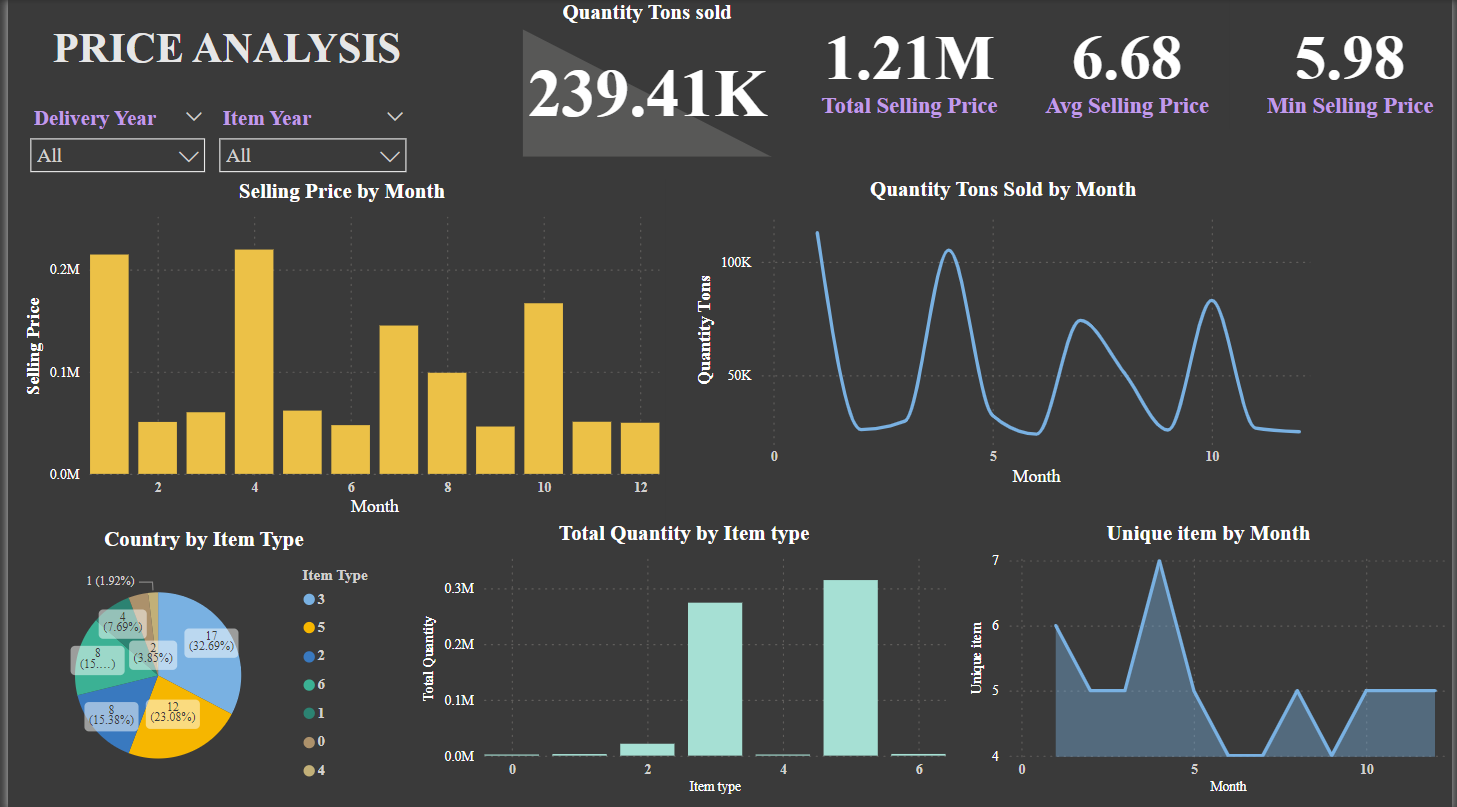

What the dashboard file says about the page in this screenshot:
{"tool":"powerbi","page":{"name":"Dashbord","canvas":[1280,720],"ordinal":0},"visuals":[{"type":"card","fields":{"Values":["Industrial_Copper_Colab.Total Selling Price"]},"box":[689.6,0,218.8,113.8],"z":0},{"type":"card","fields":{"Values":["Industrial_Copper_Colab.Avg Selling Price"]},"box":[901.6,0,180.9,113.8],"z":1000},{"type":"card","fields":{"Values":["Industrial_Copper_Colab.Min Selling Price"]},"box":[1099.1,0,180.9,113.8],"z":2000},{"type":"slicer","fields":{"Values":["Industrial_Copper_Colab.delivery_date_year"]},"box":[9.7,88.5,175.1,68.1],"z":3000},{"type":"slicer","fields":{"Values":["Industrial_Copper_Colab.item_date_year"]},"box":[177,88.5,185.8,68.1],"z":4000},{"type":"lineClusteredColumnComboChart","fields":{"Category":["Industrial_Copper_Colab.delivery_date_month"],"Y":["Industrial_Copper_Colab.Total Selling Price"]},"box":[9.7,158.5,572.9,303.5],"z":5000},{"type":"areaChart","fields":{"Category":["Industrial_Copper_Colab.delivery_date_month"],"Y":["Industrial_Copper_Colab.Unique item"]},"box":[848.1,462,431.9,247.1],"z":6000},{"type":"pieChart","fields":{"Y":["Industrial_Copper_Colab.Unique Country"],"Category":["Industrial_Copper_Colab.item type"]},"box":[0,466.9,347.2,242.2],"z":7000},{"type":"kpi","title":"Quantity Tons sold ","fields":{"Indicator":["Sum(Industrial_Copper_Colab.quantity_tons_log)"],"TrendLine":["Industrial_Copper_Colab.item_date_year"]},"box":[451.3,0,230.5,144],"z":8000},{"type":"lineChart","title":"Quantity Tons Sold by Month","fields":{"Category":["Industrial_Copper_Colab.delivery_date_month"],"Y":["Sum(Industrial_Copper_Colab.quantity_tons_log)"]},"box":[605,156.6,555.4,278.2],"z":9000},{"type":"lineClusteredColumnComboChart","fields":{"Y":["Industrial_Copper_Colab.Total Quantity"],"Category":["Industrial_Copper_Colab.item type"]},"box":[362.8,462,473.7,247.1],"z":9001},{"type":"textbox","box":[9.7,15.6,368.6,56.4],"z":9002}]}

Visuals, with their boxes in screenshot pixels (x1, y1, x2, y2), scaled from the page's 1280x720 canvas onto the 1457x807 screenshot:
card - Industrial_Copper_Colab.Total Selling Price: (785, 0, 1034, 128)
card - Industrial_Copper_Colab.Avg Selling Price: (1026, 0, 1232, 128)
card - Industrial_Copper_Colab.Min Selling Price: (1251, 0, 1456, 128)
slicer - Industrial_Copper_Colab.delivery_date_year: (11, 99, 210, 176)
slicer - Industrial_Copper_Colab.item_date_year: (201, 99, 413, 176)
lineClusteredColumnComboChart - Industrial_Copper_Colab.delivery_date_month x Industrial_Copper_Colab.Total Selling Price: (11, 178, 663, 518)
areaChart - Industrial_Copper_Colab.delivery_date_month x Industrial_Copper_Colab.Unique item: (965, 518, 1456, 795)
pieChart - Industrial_Copper_Colab.Unique Country x Industrial_Copper_Colab.item type: (0, 523, 395, 795)
"Quantity Tons sold " kpi: (514, 0, 776, 161)
"Quantity Tons Sold by Month" lineChart: (689, 176, 1321, 487)
lineClusteredColumnComboChart - Industrial_Copper_Colab.Total Quantity x Industrial_Copper_Colab.item type: (413, 518, 952, 795)
textbox: (11, 17, 431, 81)
